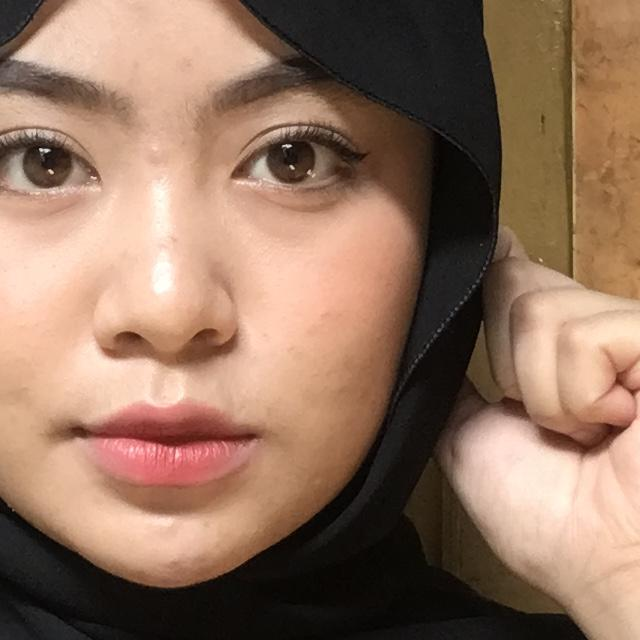ibu: (440, 226, 640, 640)
